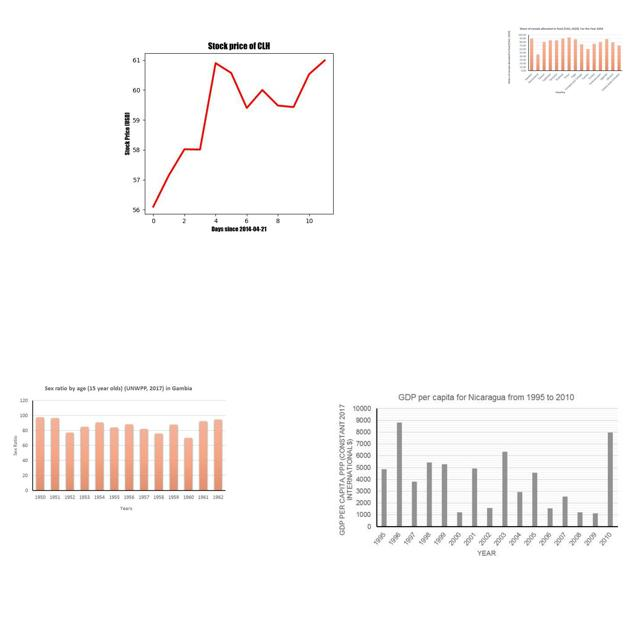Graph: (96, 28, 375, 237), (335, 389, 622, 560), (6, 380, 231, 515), (504, 26, 626, 96)
